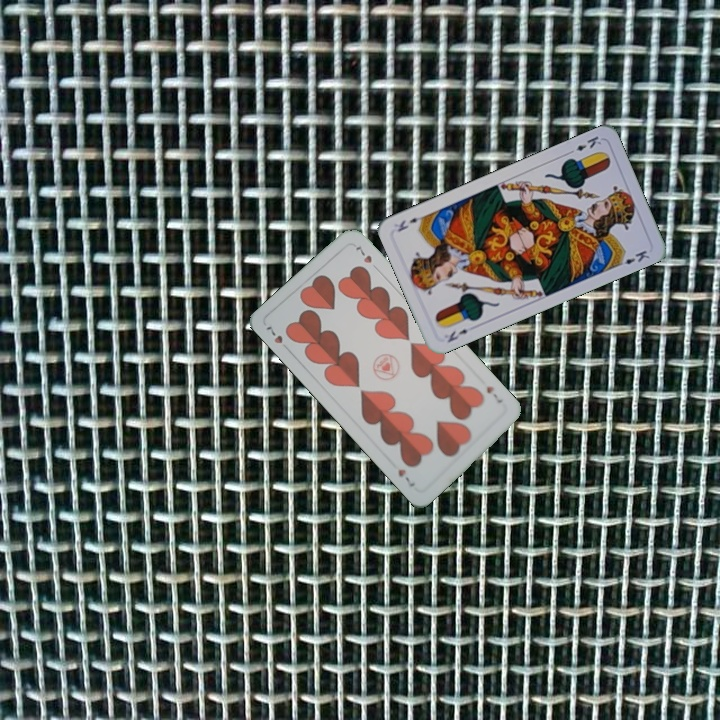EK: (564, 132, 604, 157), (443, 325, 470, 345)
H7: (262, 322, 293, 354), (482, 382, 505, 406)
